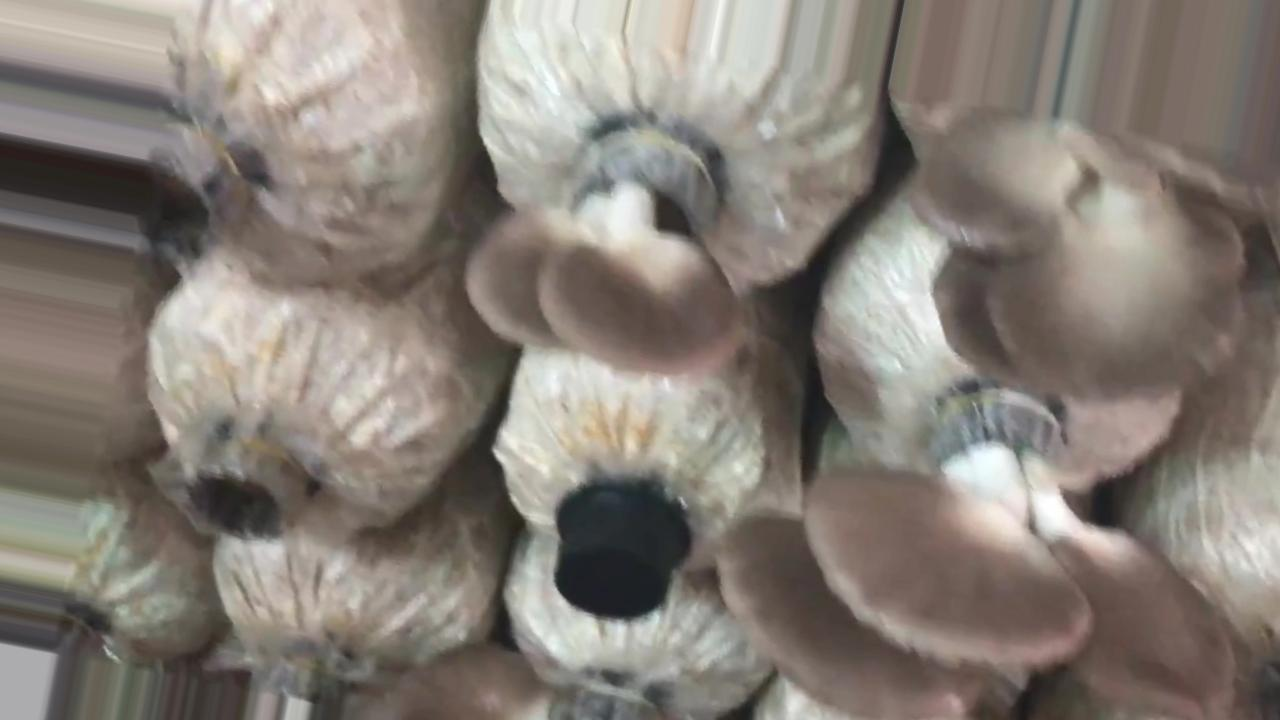nam: (718, 395, 1236, 720), (913, 105, 1280, 403), (464, 110, 743, 380)
